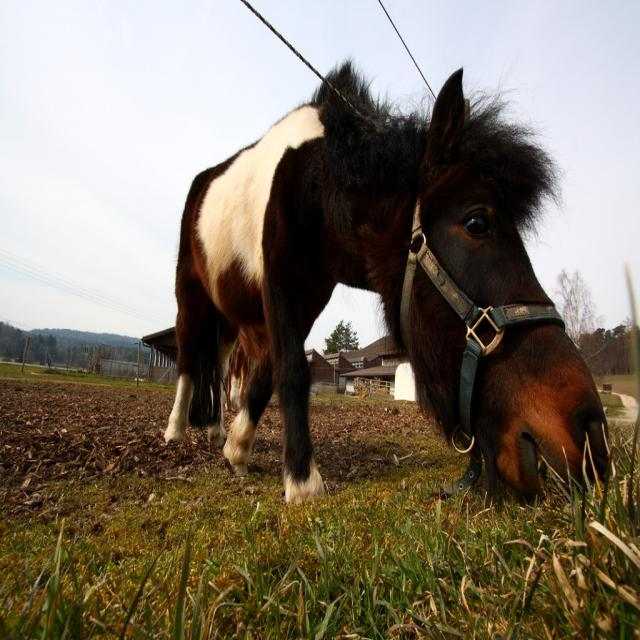Horse: (164, 53, 610, 505)
